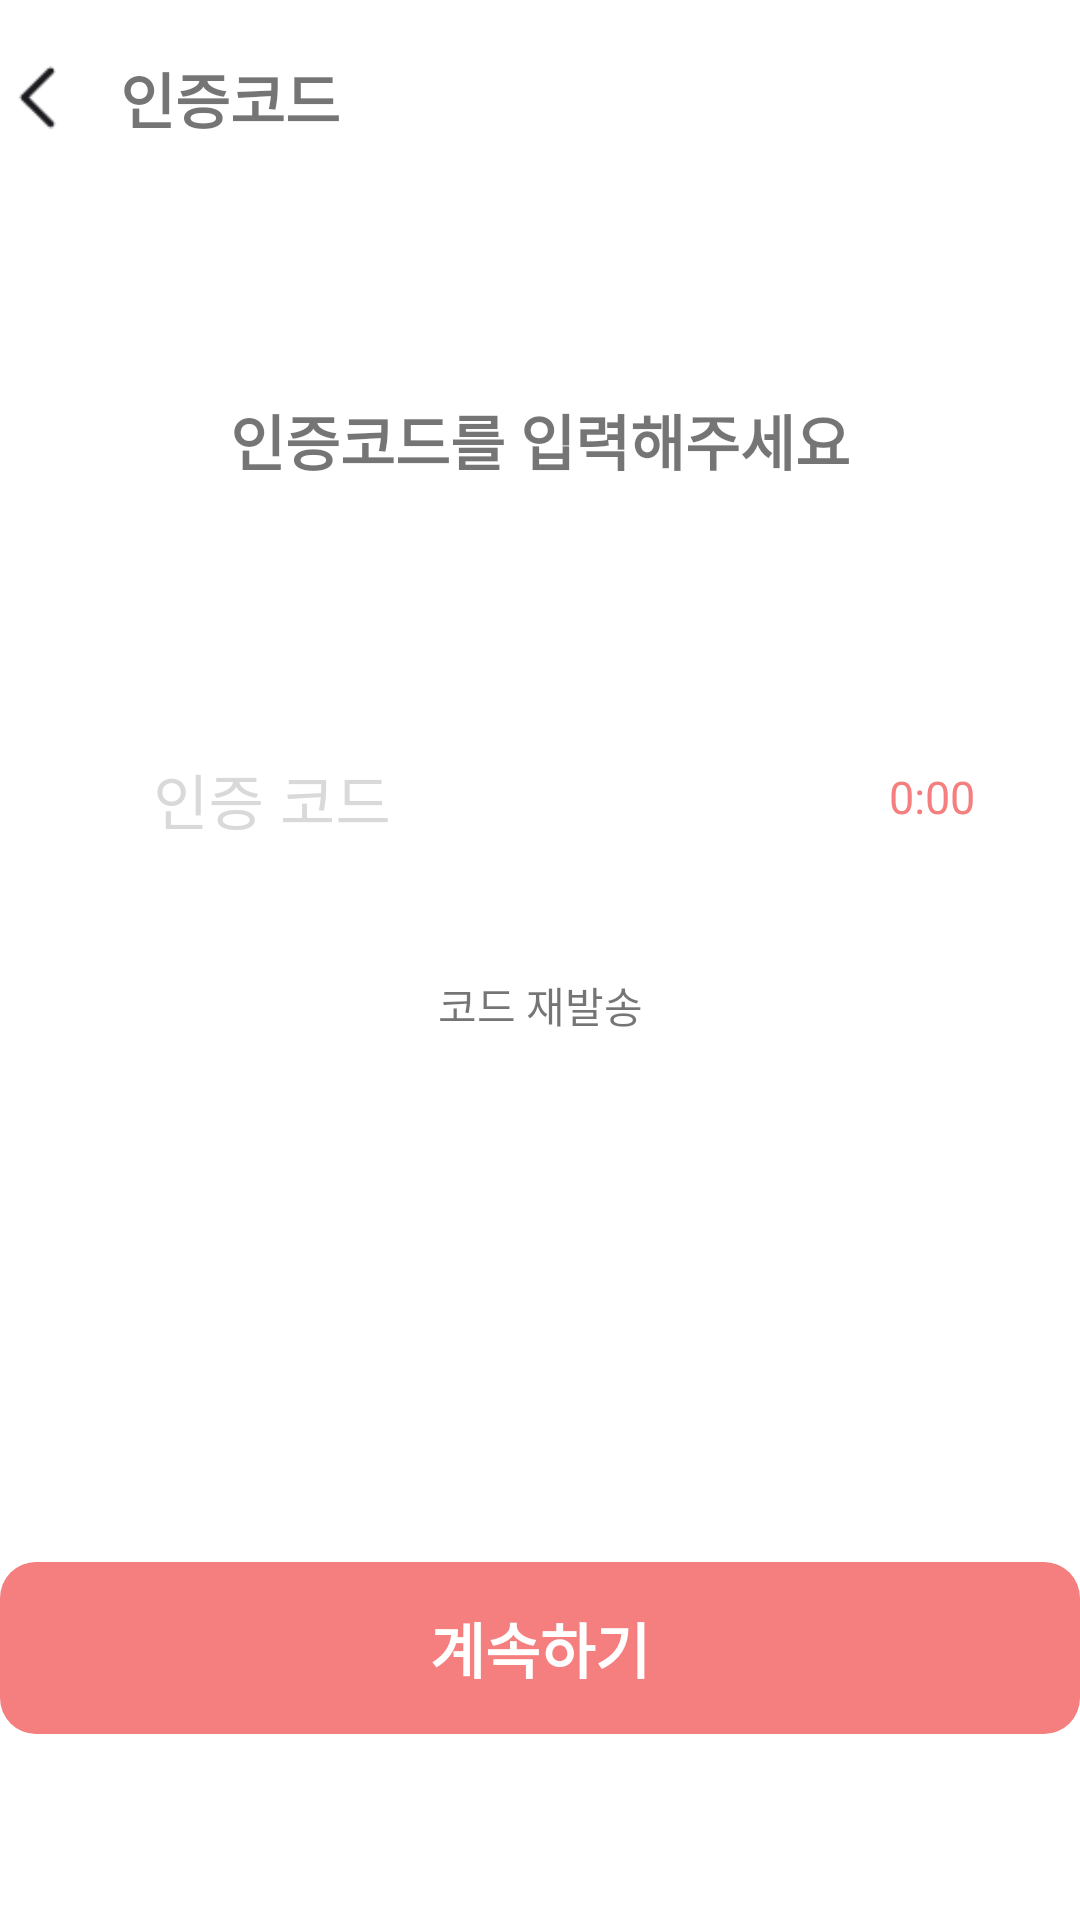

Named icons in this screenshot (1080x1920) and their bounding boxes, (x1, y1, x2, y2):
back: (19, 66, 56, 129)
